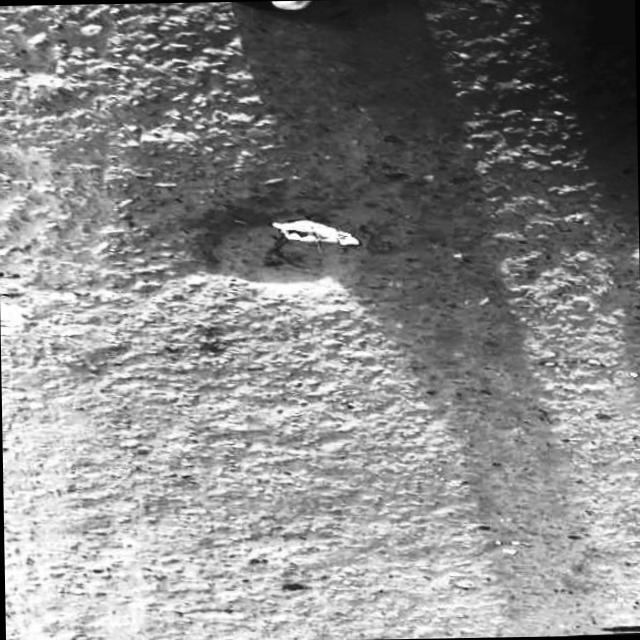Pothole: (194, 166, 365, 324)
